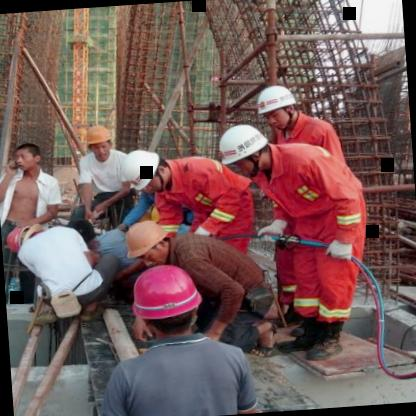head: (12, 142, 45, 175)
helmet: (123, 260, 209, 344), (209, 116, 279, 183), (114, 146, 174, 198), (120, 217, 178, 269), (252, 81, 303, 132), (5, 220, 47, 258), (84, 122, 116, 161)
